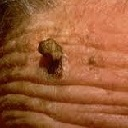Actinic: (32, 33, 67, 81)
